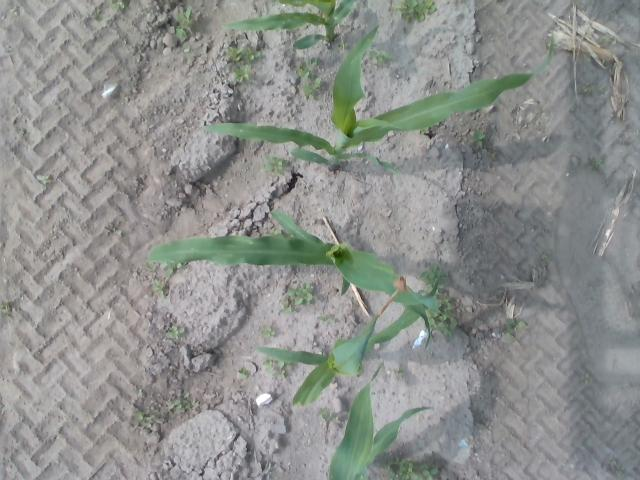Maize: (200, 24, 557, 174), (144, 211, 440, 349), (253, 270, 444, 406), (326, 359, 432, 480), (218, 0, 356, 50)
Weeds: (128, 392, 200, 426), (427, 294, 458, 341), (379, 457, 439, 480), (394, 0, 439, 25), (280, 280, 313, 313), (173, 4, 194, 42), (420, 260, 446, 288), (259, 154, 291, 174), (227, 46, 260, 64), (299, 77, 321, 102), (294, 56, 320, 77), (504, 316, 525, 340), (370, 48, 394, 67), (317, 406, 340, 424), (233, 64, 251, 86), (104, 220, 124, 238), (161, 262, 186, 275), (470, 126, 486, 146), (609, 460, 626, 477), (590, 154, 606, 172), (274, 360, 290, 378), (109, 0, 131, 13), (0, 300, 13, 320), (166, 325, 186, 338), (393, 364, 407, 382), (152, 278, 166, 296), (262, 358, 275, 376), (316, 314, 335, 326), (36, 173, 52, 186), (90, 5, 102, 22), (237, 364, 250, 379), (260, 326, 277, 337), (580, 82, 592, 97), (132, 384, 146, 395), (578, 373, 590, 385), (10, 5, 20, 19), (602, 34, 614, 44), (18, 128, 28, 138), (336, 42, 348, 50), (420, 128, 432, 135), (599, 85, 606, 95), (540, 254, 549, 260)
